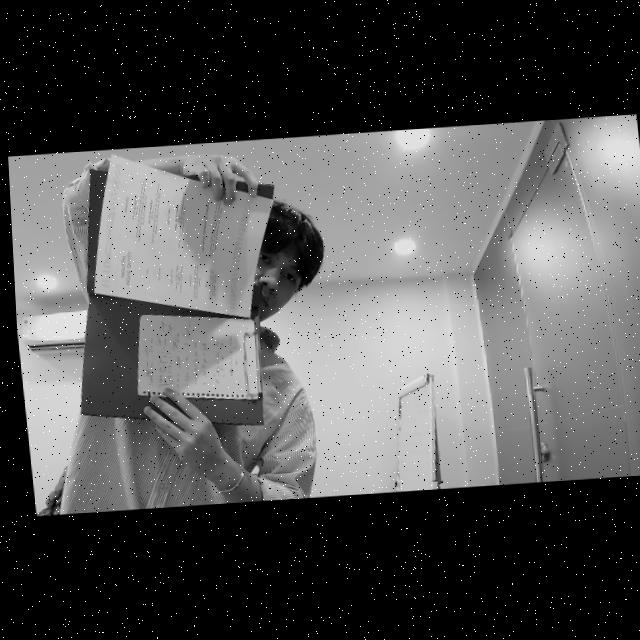document: (94, 153, 274, 318), (138, 314, 259, 399)
face: (242, 208, 335, 329), (262, 205, 330, 327)
